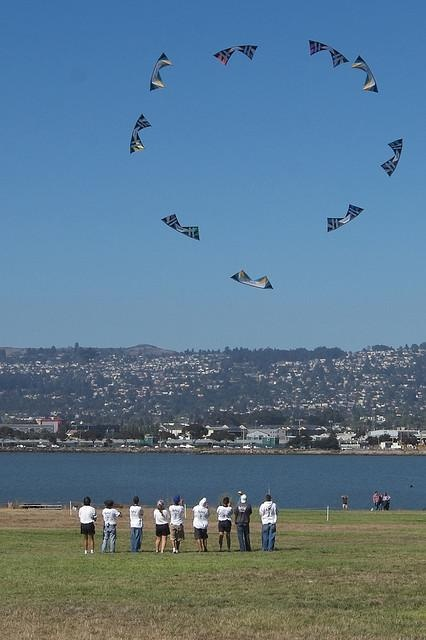person: (257, 494, 280, 554), (100, 499, 124, 554), (76, 497, 99, 554), (166, 494, 188, 552), (126, 494, 146, 551), (214, 494, 234, 549), (193, 493, 211, 553), (234, 494, 254, 548), (153, 500, 171, 554)
